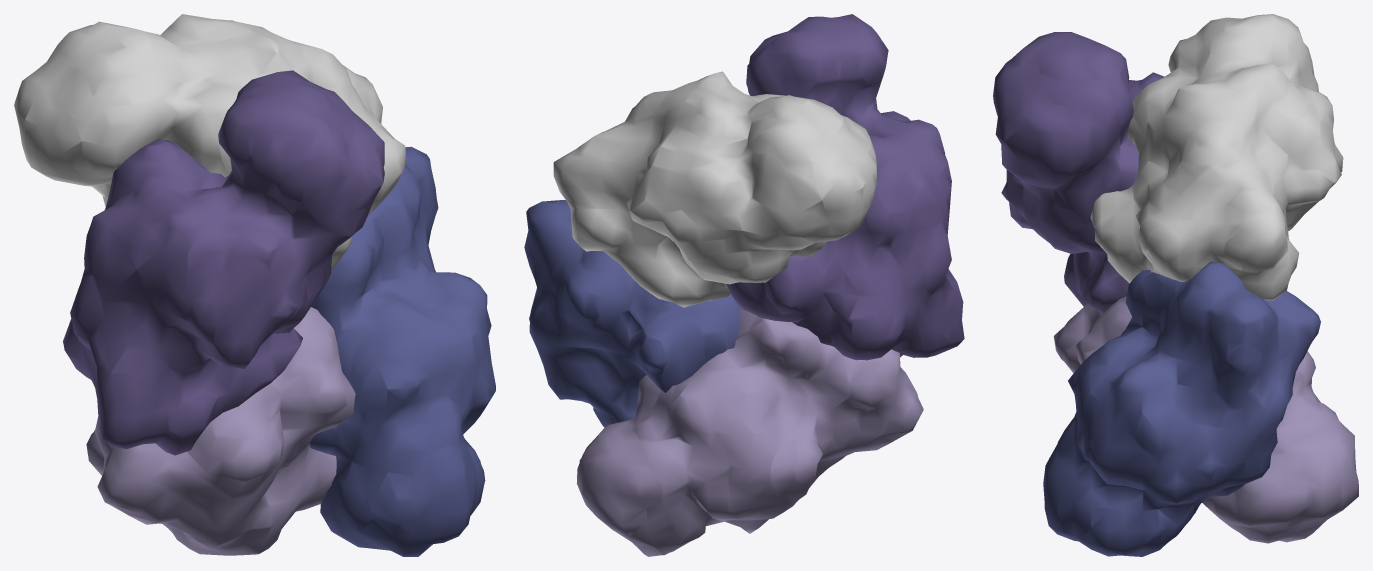
The model's file is tetramer1A49_1_0.dae.
The picture shows the model from 3 angles, left to right: view 1: azimuth 30°, elevation 25°; view 2: azimuth 150°, elevation 25°; view 3: azimuth 270°, elevation 25°; orthographic projection. The views are drawn at different scales.
Parts seen in each view (by area): view 1: CoarseMS_1a49bioSimp, CoarseMS_1a49bioSimp_Selection2, CoarseMS_1a49bioSimp_Selection3, CoarseMS_1a49bioSimp_Selection0; view 2: CoarseMS_1a49bioSimp_Selection3, CoarseMS_1a49bioSimp_Selection0, CoarseMS_1a49bioSimp, CoarseMS_1a49bioSimp_Selection2; view 3: CoarseMS_1a49bioSimp_Selection2, CoarseMS_1a49bioSimp_Selection3, CoarseMS_1a49bioSimp, CoarseMS_1a49bioSimp_Selection0.
Boxes of the visible parts, bbox=[...] form: CoarseMS_1a49bioSimp: bbox=[63, 70, 384, 455]; CoarseMS_1a49bioSimp_Selection2: bbox=[309, 146, 495, 556]; CoarseMS_1a49bioSimp_Selection3: bbox=[14, 14, 406, 271]; CoarseMS_1a49bioSimp_Selection0: bbox=[86, 307, 355, 555]; CoarseMS_1a49bioSimp_Selection3: bbox=[553, 71, 877, 307]; CoarseMS_1a49bioSimp_Selection0: bbox=[576, 308, 923, 556]; CoarseMS_1a49bioSimp: bbox=[726, 14, 964, 360]; CoarseMS_1a49bioSimp_Selection2: bbox=[524, 200, 740, 427]; CoarseMS_1a49bioSimp_Selection2: bbox=[1043, 261, 1320, 556]; CoarseMS_1a49bioSimp_Selection3: bbox=[1090, 14, 1343, 300]; CoarseMS_1a49bioSimp: bbox=[993, 32, 1164, 313]; CoarseMS_1a49bioSimp_Selection0: bbox=[1053, 296, 1358, 543].
Bounding box in the file's own units: 104 × 126 × 89.14.
